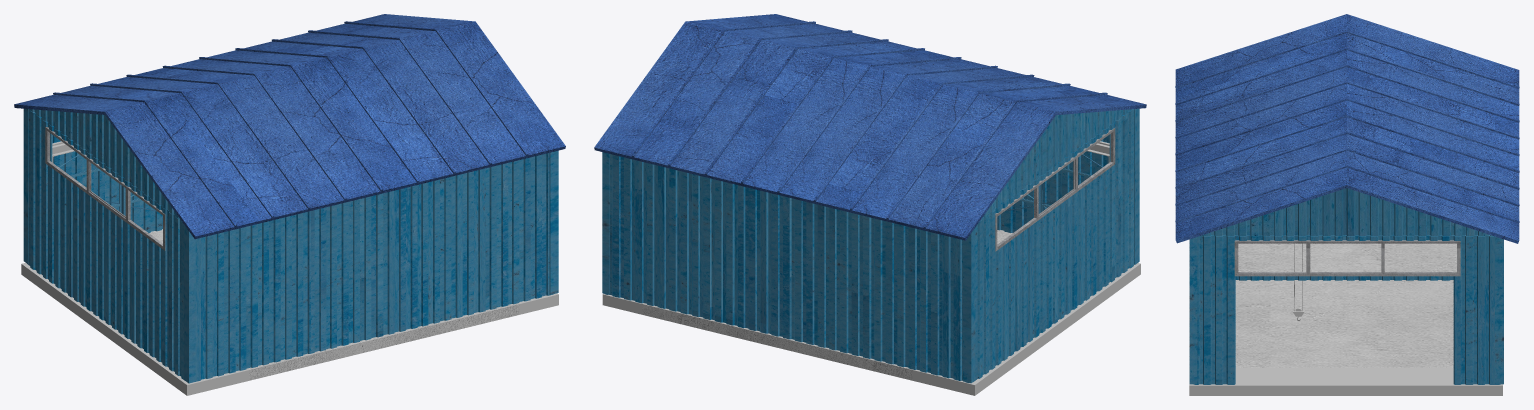
Rendered from building_plus.fbx.
The picture shows the model from 3 angles, left to right: view 1: azimuth 30°, elevation 25°; view 2: azimuth 150°, elevation 25°; view 3: azimuth 270°, elevation 25°; orthographic projection. The views are drawn at different scales.
Parts seen in each view (by area): view 1: walls, roof, unsafe_zone, safe_zone_2, window_2, safe_zone; view 2: walls, roof, unsafe_zone, safe_zone_2, window_2, safe_zone; view 3: roof, unsafe_zone, walls, safe_zone, window_1.
Boxes of the visible parts, box(x1,y1,x2,y2) form: walls: box(23, 108, 558, 383); roof: box(14, 14, 565, 239); unsafe_zone: box(149, 229, 519, 380); safe_zone_2: box(21, 262, 249, 395); window_2: box(45, 127, 165, 250); safe_zone: box(518, 293, 558, 314); walls: box(602, 108, 1139, 383); roof: box(594, 14, 1146, 240); unsafe_zone: box(642, 230, 1012, 380); safe_zone_2: box(912, 263, 1140, 395); window_2: box(995, 128, 1115, 251); safe_zone: box(602, 293, 642, 314); roof: box(1175, 14, 1519, 243); unsafe_zone: box(1189, 243, 1456, 367); walls: box(1189, 188, 1503, 384); safe_zone: box(1189, 367, 1502, 395); window_1: box(1234, 240, 1460, 276).
Size of the model in its own units: 177 by 102 by 150.
